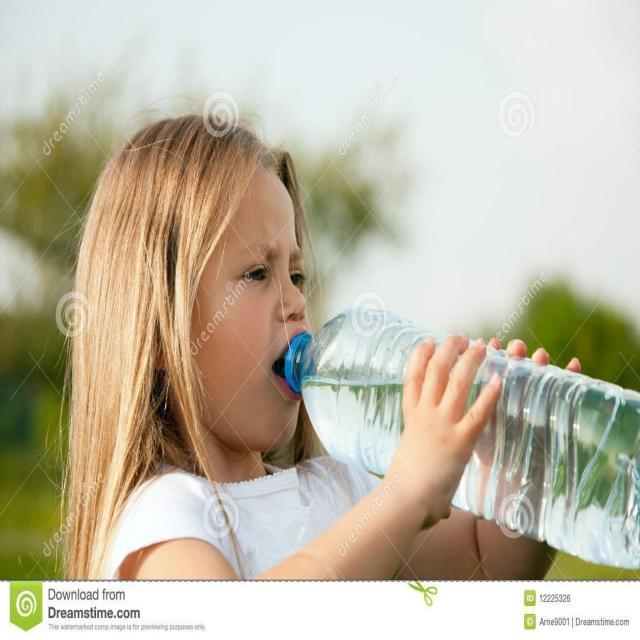bottle-plastic: (282, 291, 640, 570)
